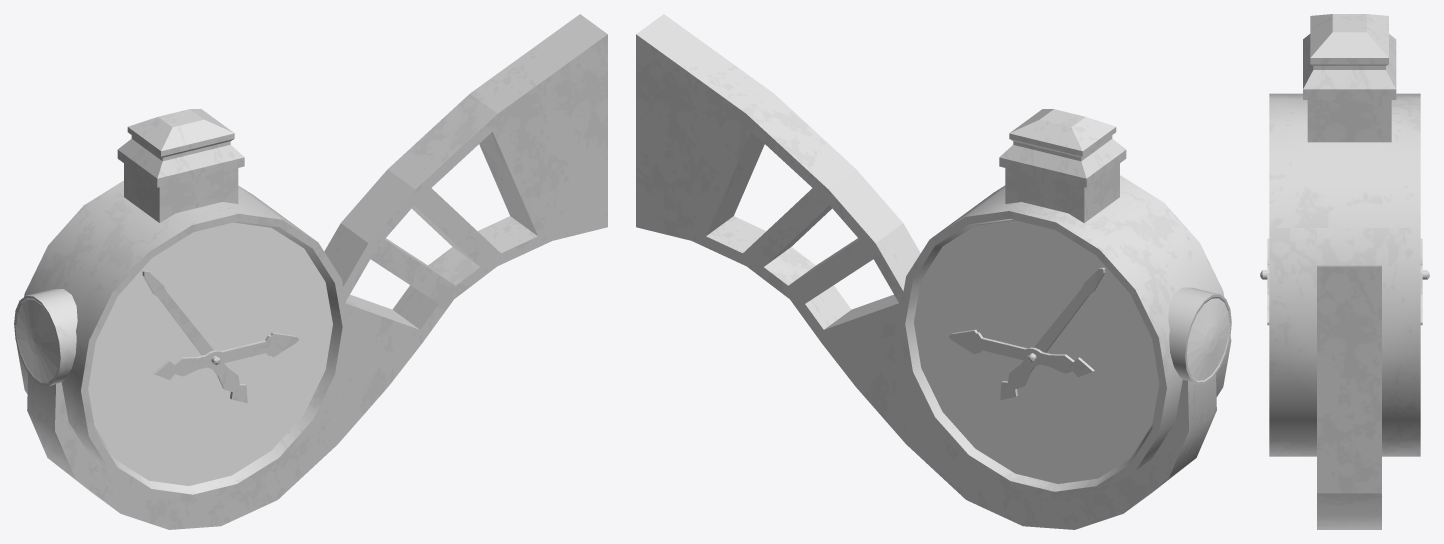
The model's file is Clock_A_001.fbx.
The picture shows the model from 3 angles, left to right: view 1: azimuth 30°, elevation 25°; view 2: azimuth 150°, elevation 25°; view 3: azimuth 270°, elevation 25°; orthographic projection. The views are drawn at different scales.
Visible parts, largest first — view 1: Clock_A_001; view 2: Clock_A_001; view 3: Clock_A_001.
Part boxes in pixels (x1,y1,x2,y2): Clock_A_001: (14,14,607,529); Clock_A_001: (636,14,1231,529); Clock_A_001: (1260,14,1429,529).
Bounding box in the file's own units: 160 × 110 × 35.51.
Materials: 4 (4 with a texture image).
